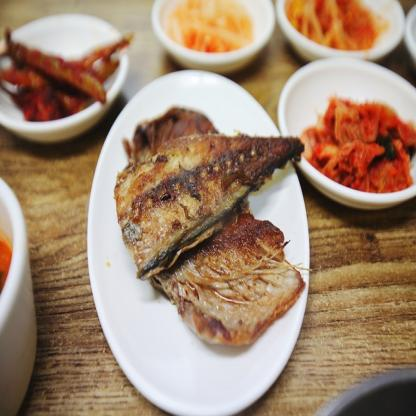Peixe: (109, 108, 302, 353)
